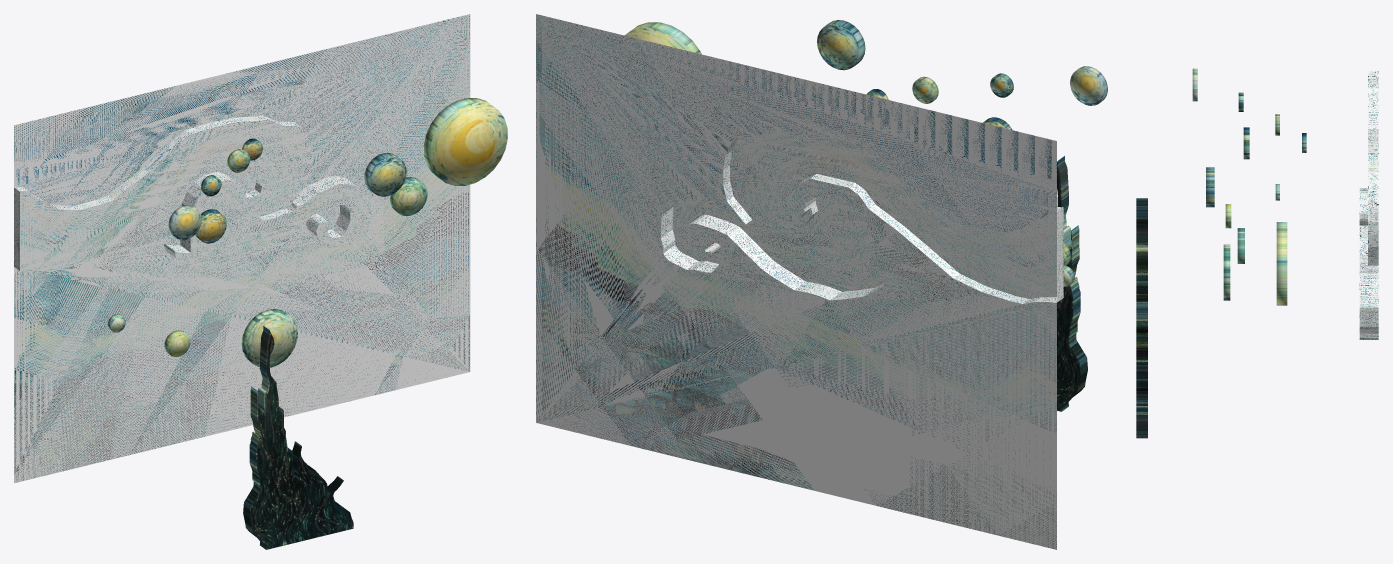
The picture shows the model from 3 angles, left to right: view 1: azimuth 30°, elevation 25°; view 2: azimuth 150°, elevation 25°; view 3: azimuth 270°, elevation 25°; orthographic projection. The views are drawn at different scales.
Parts seen in each view (by area): view 1: SketchUp (×2), group_0 (×6); view 2: SketchUp (×2), group_0 (×3); view 3: SketchUp (×2), group_0 (×3).
Part boxes in pixels (x1,y1,x2,y2): SketchUp (×2): (14, 14, 470, 549); group_0 (×6): (168, 98, 507, 367); SketchUp (×2): (536, 14, 1087, 549); group_0 (×3): (624, 20, 1107, 105); SketchUp (×2): (1136, 71, 1378, 438); group_0 (×3): (1206, 167, 1287, 305).
Size of the model in its own units: 630 by 314 by 472.
3 materials, 2 textured.
